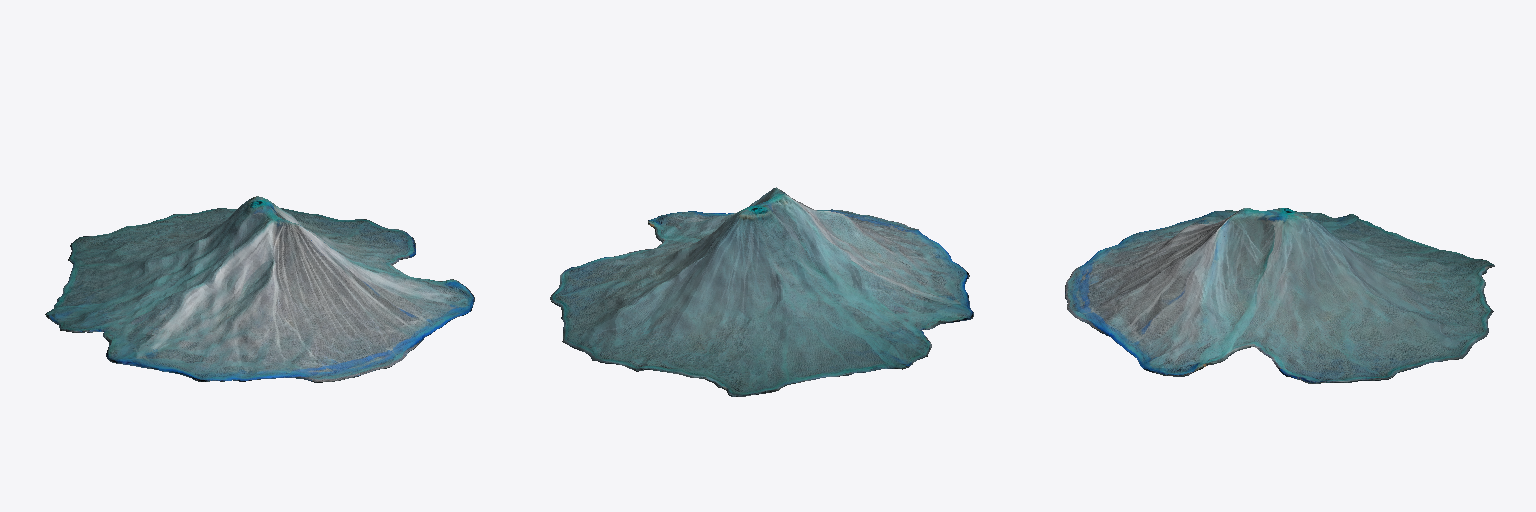
3 views of the same model, side by side, from view 1: azimuth 30°, elevation 25°; view 2: azimuth 150°, elevation 25°; view 3: azimuth 270°, elevation 25° (orthographic).
Visible parts, largest first — view 1: thrown_net_to_catch_a_[number redacted]_refine; view 2: thrown_net_to_catch_a_[number redacted]_refine; view 3: thrown_net_to_catch_a_[number redacted]_refine.
Boxes of the visible parts, <box> form: thrown_net_to_catch_a_[number redacted]_refine: <box>45,196,474,382</box>; thrown_net_to_catch_a_[number redacted]_refine: <box>550,187,973,396</box>; thrown_net_to_catch_a_[number redacted]_refine: <box>1065,208,1494,383</box>.
Bounding box in the file's own units: 1.91 × 0.4952 × 2.
Materials: 1 (1 with a texture image).